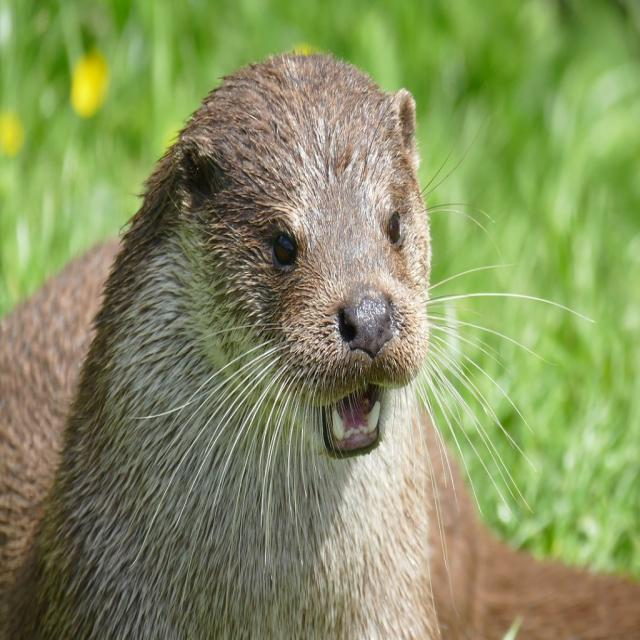otter: (76, 52, 431, 640)
